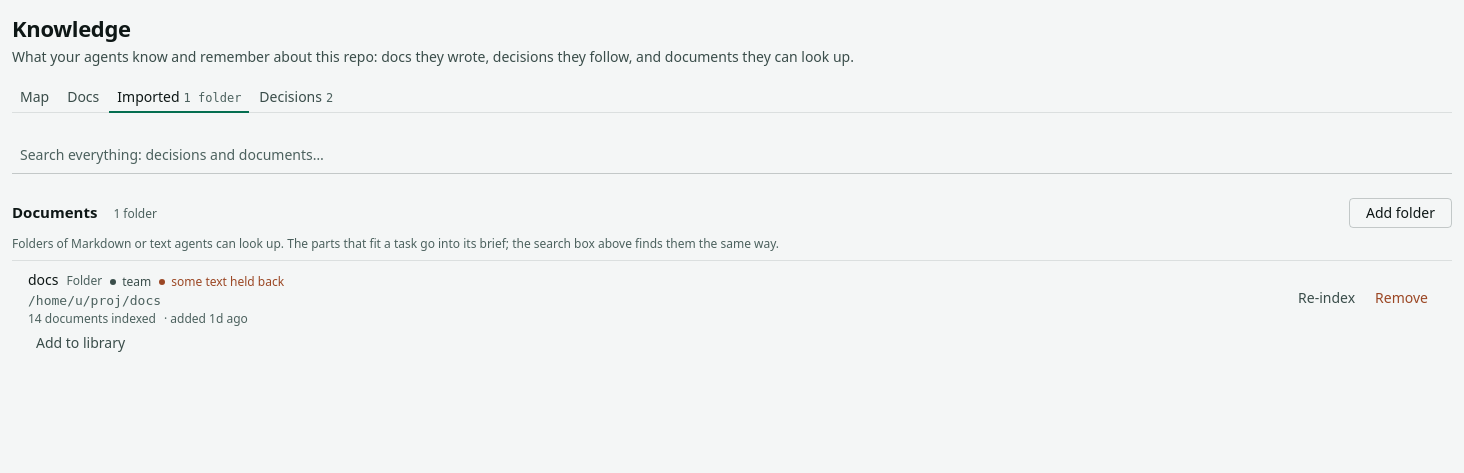
it: knowledge screen › adds a folder from the native picker, re-indexes and removes one in a click, each through the engine's routes
Expected: the list item is shown, [12,261,1452,363]
Click the button "Add folder": x=1400, y=213 [1349,198,1452,228]
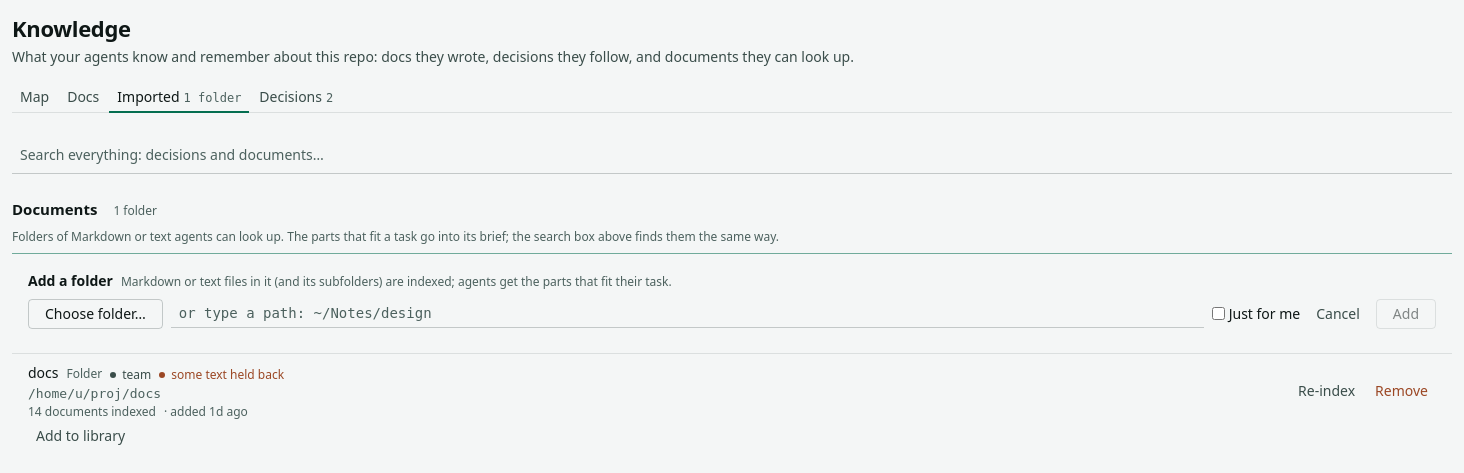
Click the button "Choose folder…": x=95, y=314 [28,298,163,328]
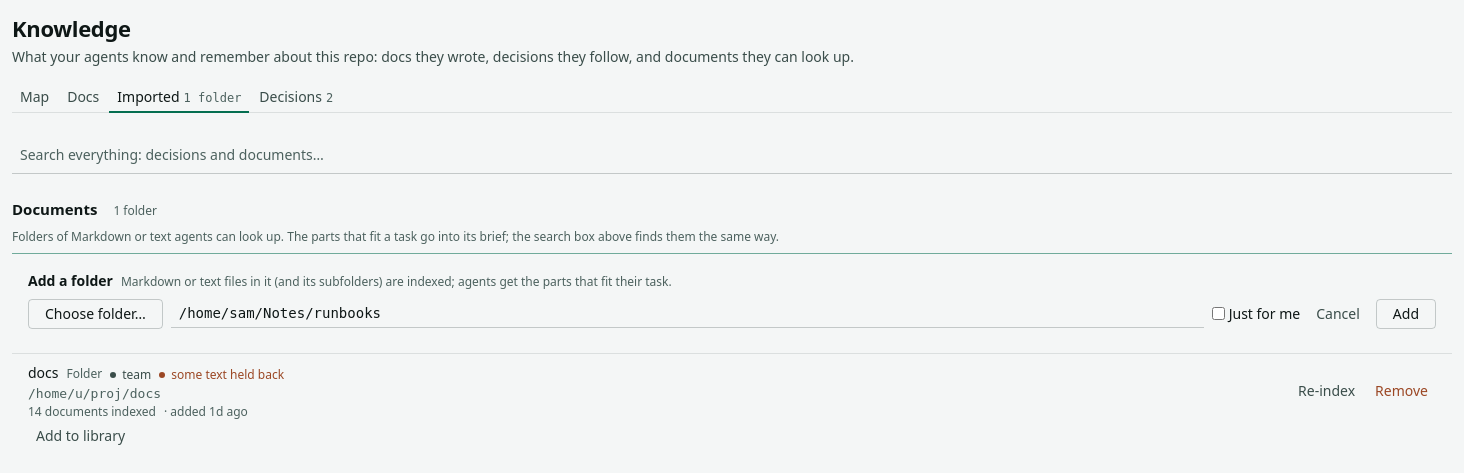
Now the field named "Folder path" holds "/home/sam/Notes/runbooks", box [171,299,1204,328]
Click the button "Add": x=1406, y=314 [1376,298,1436,328]
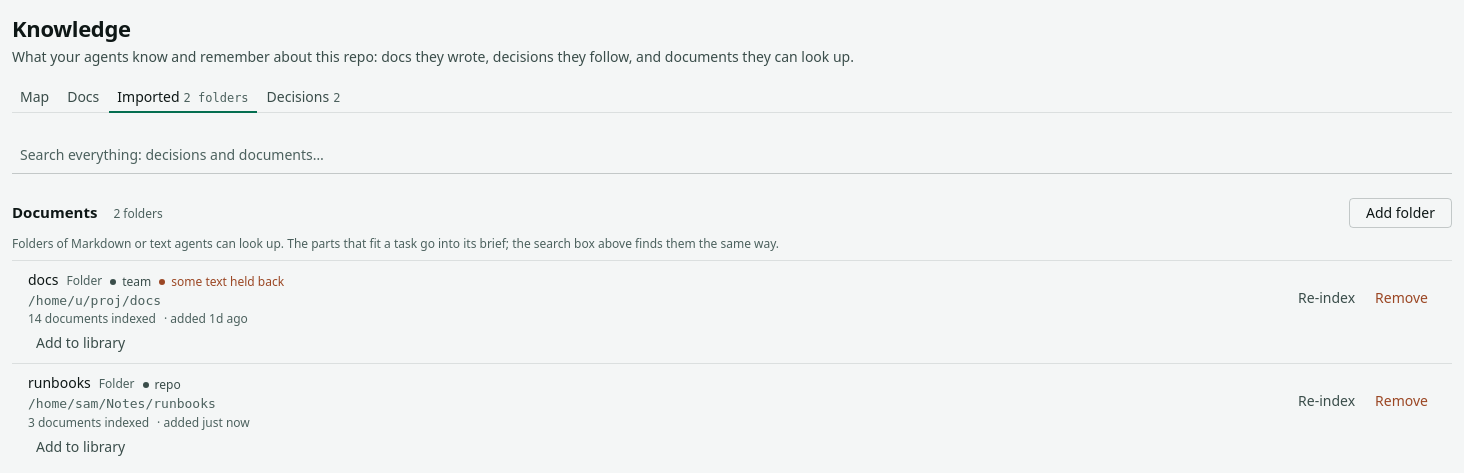
Now the element with test id "sources" shows "runbooks", box [28,373,91,392]
Now the element with test id "sources" shows "3 documents indexed", box [28,414,149,431]
Now the text "Add a folder" is gone
Click the button with aria-label "Re-index docs": x=1327, y=298 [1290,286,1363,310]
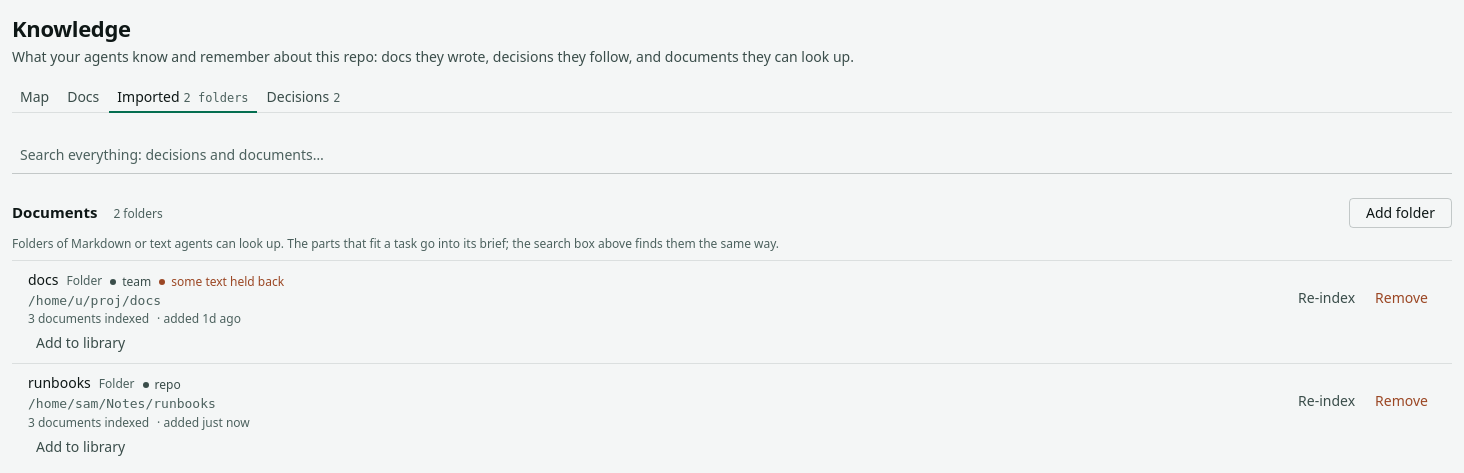
// Remove: one click, no confirmation, the folder gone.
Click the button with aria-label "Remove docs": x=1402, y=298 [1367,286,1436,310]
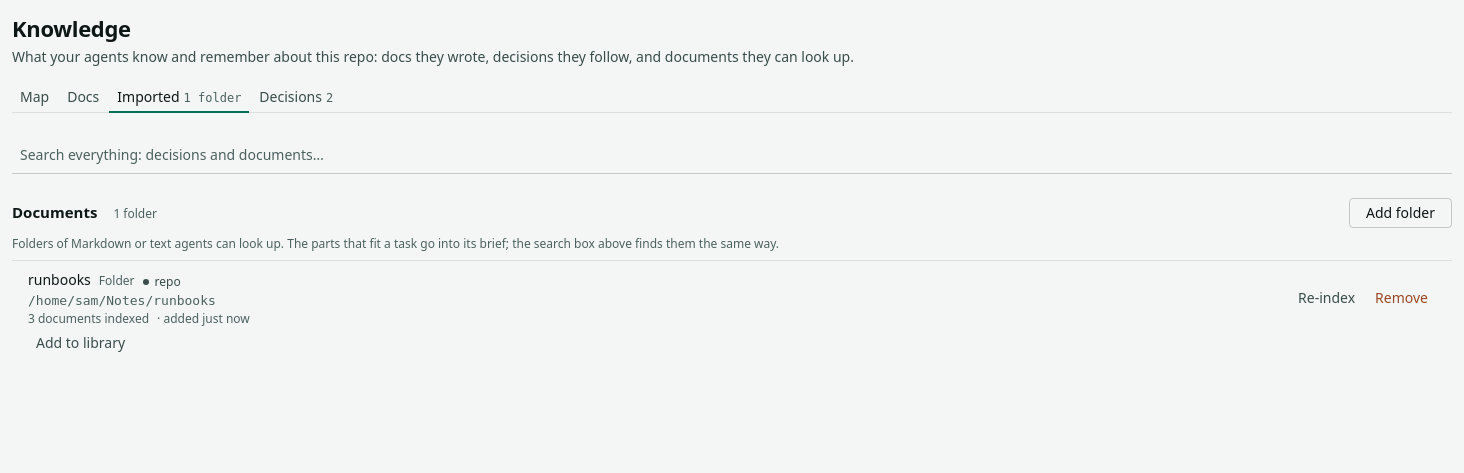
Now the element with test id "sources" shows "1 folder", box [113,205,157,222]
